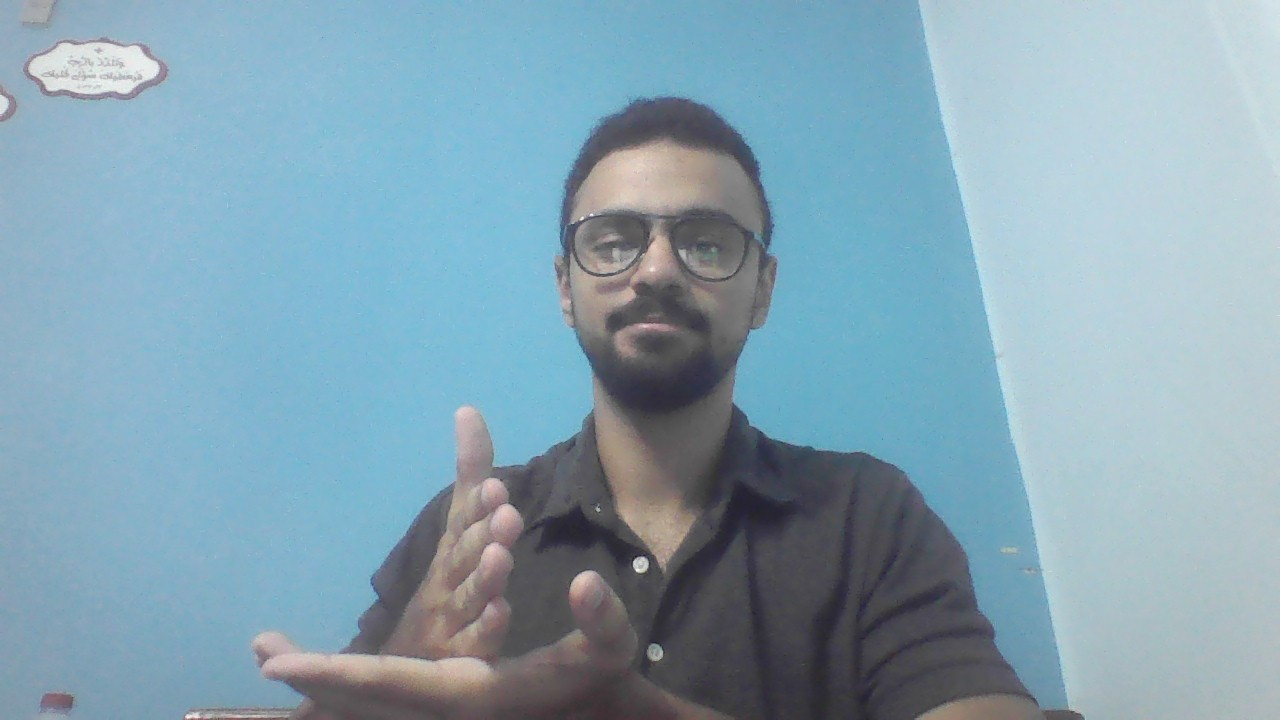stop: (249, 402, 656, 720)
